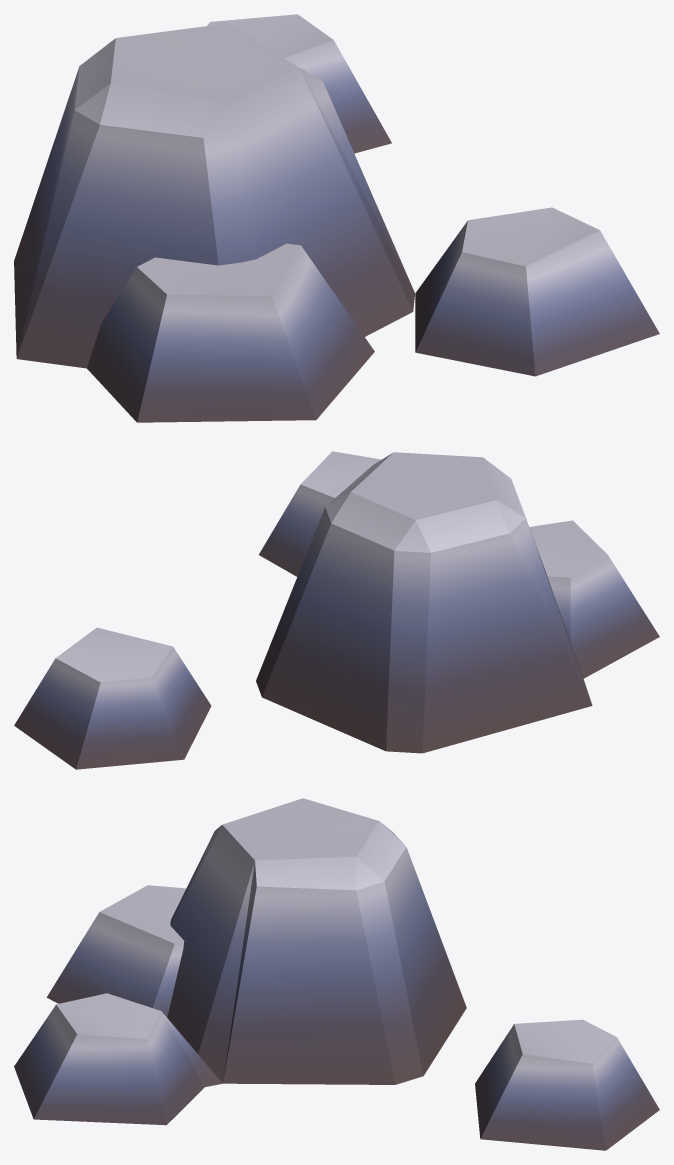
File: block_mountain_1_3.fbx
3 views of the same model, one above another, from view 1: azimuth 30°, elevation 25°; view 2: azimuth 150°, elevation 25°; view 3: azimuth 270°, elevation 25° (orthographic). The views are drawn at different scales.
Parts seen in each view (by area): view 1: block_mountain_1_3; view 2: block_mountain_1_3; view 3: block_mountain_1_3.
Boxes of the visible parts, x1,y1,x2,y2 form: block_mountain_1_3: [14, 14, 659, 422]; block_mountain_1_3: [14, 451, 659, 769]; block_mountain_1_3: [14, 798, 659, 1150].
Size of the model in its own units: 55.72 by 25.32 by 75.56.
